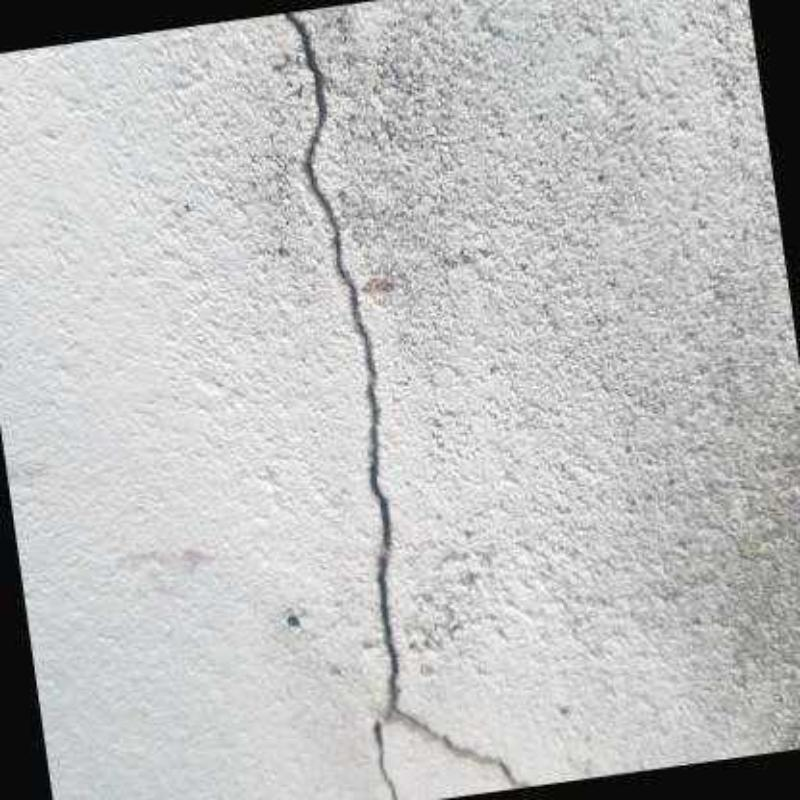crack: (281, 11, 529, 800)
